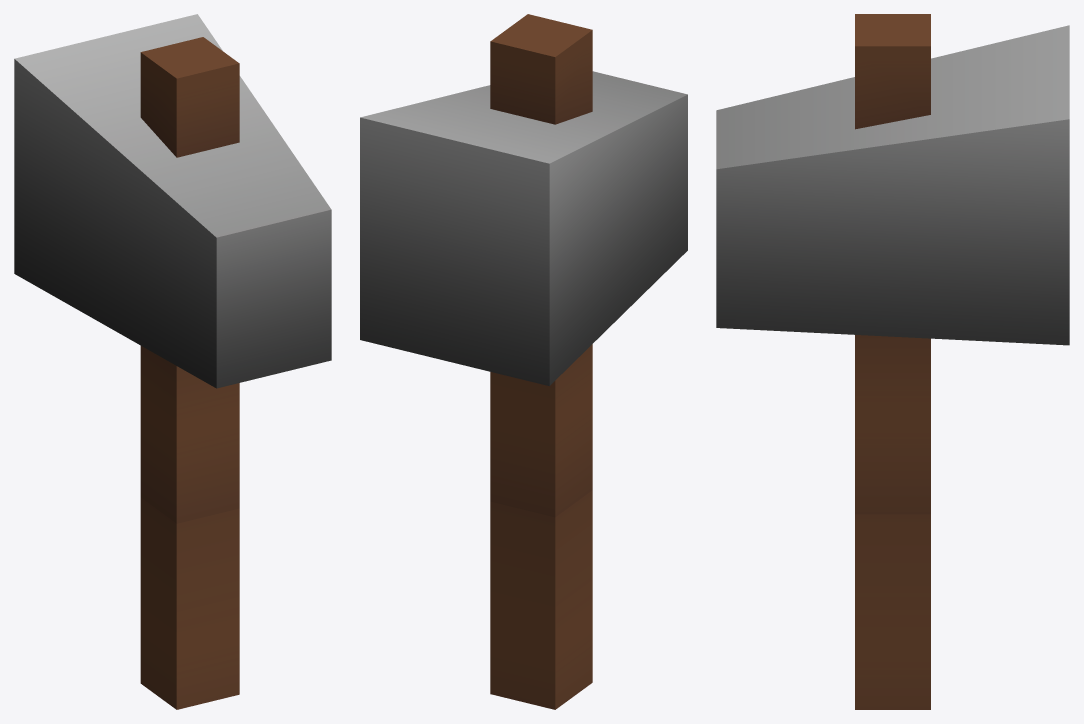
The model's file is Hammer.fbx.
The picture shows the model from 3 angles, left to right: view 1: azimuth 30°, elevation 25°; view 2: azimuth 150°, elevation 25°; view 3: azimuth 270°, elevation 25°; orthographic projection. The views are drawn at different scales.
Parts seen in each view (by area): view 1: Hammer; view 2: Hammer; view 3: Hammer.
Part boxes in pixels (box(x1,y1,x2,y2)): Hammer: box(14, 14, 331, 709); Hammer: box(360, 14, 687, 709); Hammer: box(716, 14, 1069, 709).
Size of the model in its own units: 0.1335 by 0.212 by 0.4394.
